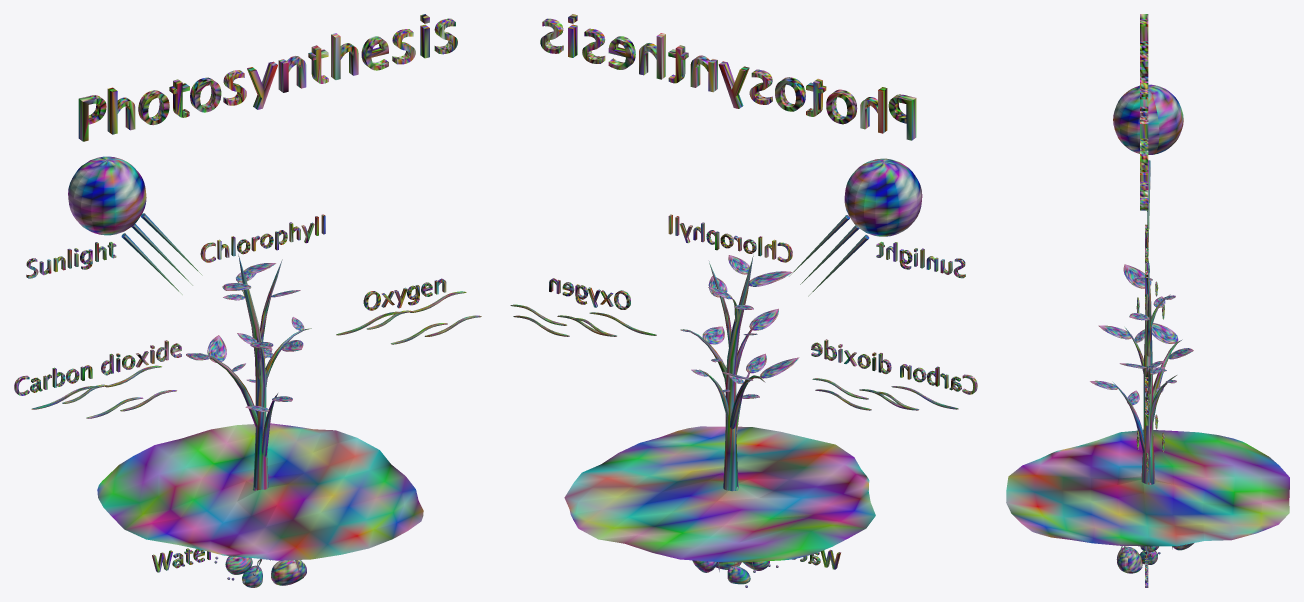
File: I know  this is heavy but this one is the best example for the topic.fbx
3 views of the same model, side by side, from view 1: azimuth 30°, elevation 25°; view 2: azimuth 150°, elevation 25°; view 3: azimuth 270°, elevation 25° (orthographic). The views are drawn at different scales.
Parts seen in each view (by area): view 1: pPlane1_lambert1_0, typeMesh1_typeBlinn_0, pSphere4_lambert1_0, polySurface9_lambert1_0, typeMesh3_typeBlinn2_0, typeMesh5_typeBlinn4_0, typeMesh2_typeBlinn1_0, typeMesh6_typeBlinn5_0, pSphere8_lambert1_0, pasted__pSphere8_lambert1_0, pSphere2_lambert1_0, typeMesh4_typeBlinn3_0; view 2: pPlane1_lambert1_0, typeMesh1_typeBlinn_0, pSphere4_lambert1_0, polySurface9_lambert1_0, typeMesh3_typeBlinn2_0, typeMesh5_typeBlinn4_0, typeMesh2_typeBlinn1_0, typeMesh6_typeBlinn5_0, pSphere8_lambert1_0, pasted__pSphere8_lambert1_0; view 3: pPlane1_lambert1_0, pSphere4_lambert1_0, polySurface9_lambert1_0, typeMesh1_typeBlinn_0, pSphere2_lambert1_0, pasted__pasted__pSphere1_lambert1_0.002.
Part boxes in pixels (bbox=[...]): pPlane1_lambert1_0: bbox=[97, 423, 423, 560]; typeMesh1_typeBlinn_0: bbox=[78, 14, 457, 141]; pSphere4_lambert1_0: bbox=[68, 156, 146, 235]; polySurface9_lambert1_0: bbox=[197, 254, 311, 490]; typeMesh3_typeBlinn2_0: bbox=[14, 340, 181, 395]; typeMesh5_typeBlinn4_0: bbox=[200, 214, 325, 262]; typeMesh2_typeBlinn1_0: bbox=[26, 242, 116, 278]; typeMesh6_typeBlinn5_0: bbox=[363, 278, 446, 310]; pSphere8_lambert1_0: bbox=[336, 291, 481, 344]; pasted__pSphere8_lambert1_0: bbox=[31, 365, 176, 418]; pSphere2_lambert1_0: bbox=[271, 560, 306, 585]; typeMesh4_typeBlinn3_0: bbox=[152, 548, 210, 572]; pPlane1_lambert1_0: bbox=[564, 426, 875, 562]; typeMesh1_typeBlinn_0: bbox=[540, 14, 916, 140]; pSphere4_lambert1_0: bbox=[844, 158, 922, 236]; polySurface9_lambert1_0: bbox=[680, 256, 765, 491]; typeMesh3_typeBlinn2_0: bbox=[811, 339, 977, 394]; typeMesh5_typeBlinn4_0: bbox=[668, 214, 792, 262]; typeMesh2_typeBlinn1_0: bbox=[876, 241, 965, 278]; typeMesh6_typeBlinn5_0: bbox=[549, 278, 630, 309]; pSphere8_lambert1_0: bbox=[510, 304, 656, 336]; pasted__pSphere8_lambert1_0: bbox=[812, 378, 958, 410]; pPlane1_lambert1_0: bbox=[1006, 430, 1289, 546]; pSphere4_lambert1_0: bbox=[1113, 84, 1183, 154]; polySurface9_lambert1_0: bbox=[1113, 258, 1182, 484]; typeMesh1_typeBlinn_0: bbox=[1140, 14, 1148, 210]; pSphere2_lambert1_0: bbox=[1116, 546, 1142, 573]; pasted__pasted__pSphere1_lambert1_0.002: bbox=[1151, 323, 1178, 343].
Size of the model in its own units: 2136 by 2325 by 1256.
